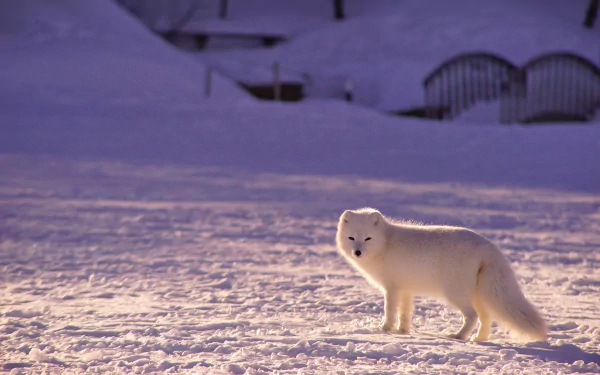arcticfox: (342, 220, 378, 270)
